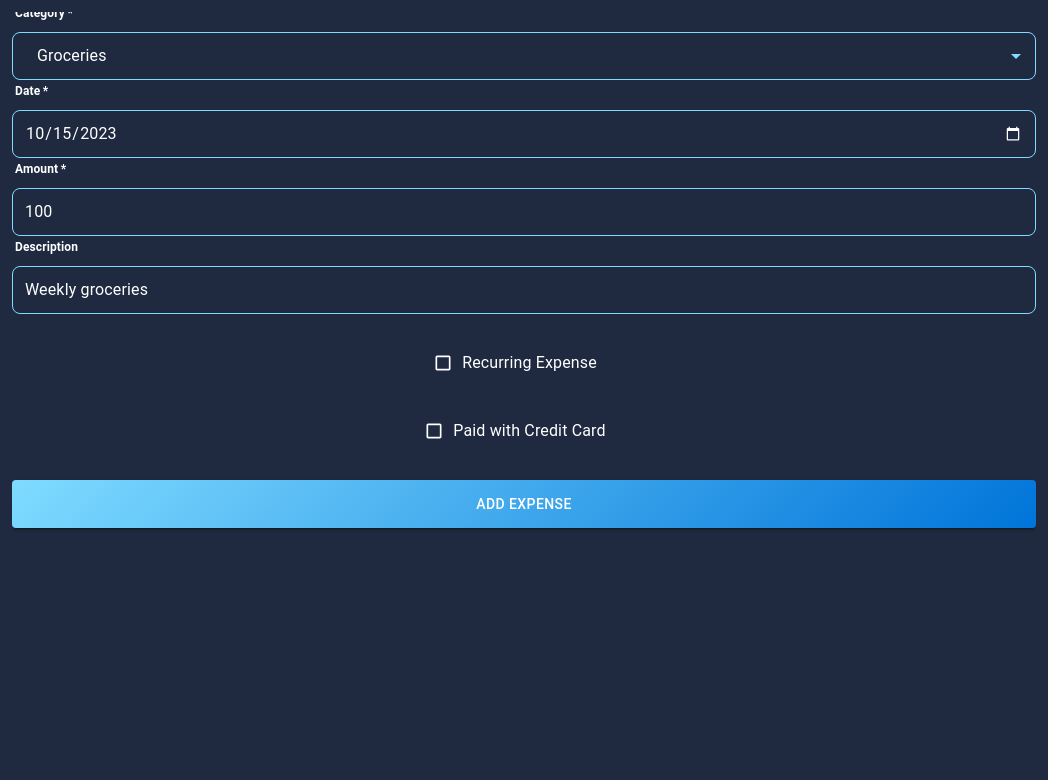
Test case: ExpenseForm › renders credit card fields when pay_with_credit_card is true
Click the checkbox labelled "Paid with Credit Card". click: click(515, 431)
box: [424, 421, 606, 441]
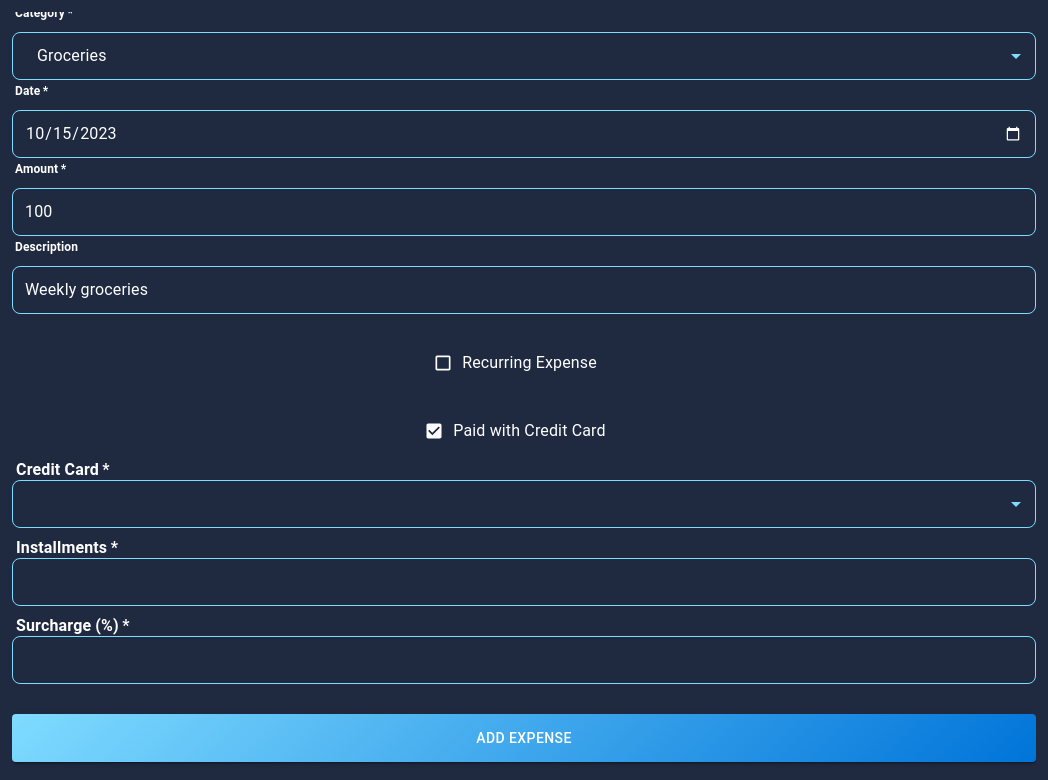
Expected: the checkbox labelled "Paid with Credit Card" is checked, [424, 421, 606, 441]
Expected: the dropdown named "Credit Card" is shown, [25, 468, 1023, 540]
